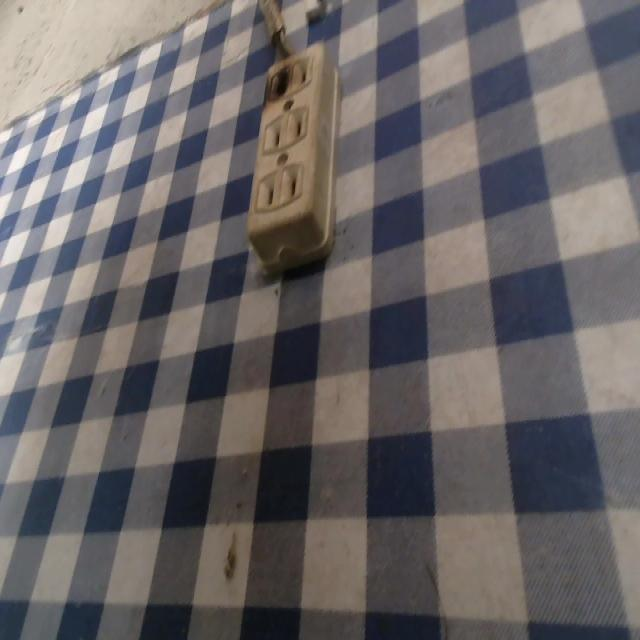-: (262, 60, 295, 108)
